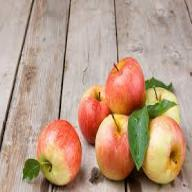apple: (35, 119, 82, 184), (144, 116, 190, 182), (93, 116, 138, 180), (77, 85, 118, 141), (104, 60, 144, 112)
